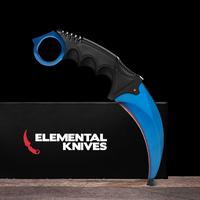knife: (26, 23, 174, 187)
